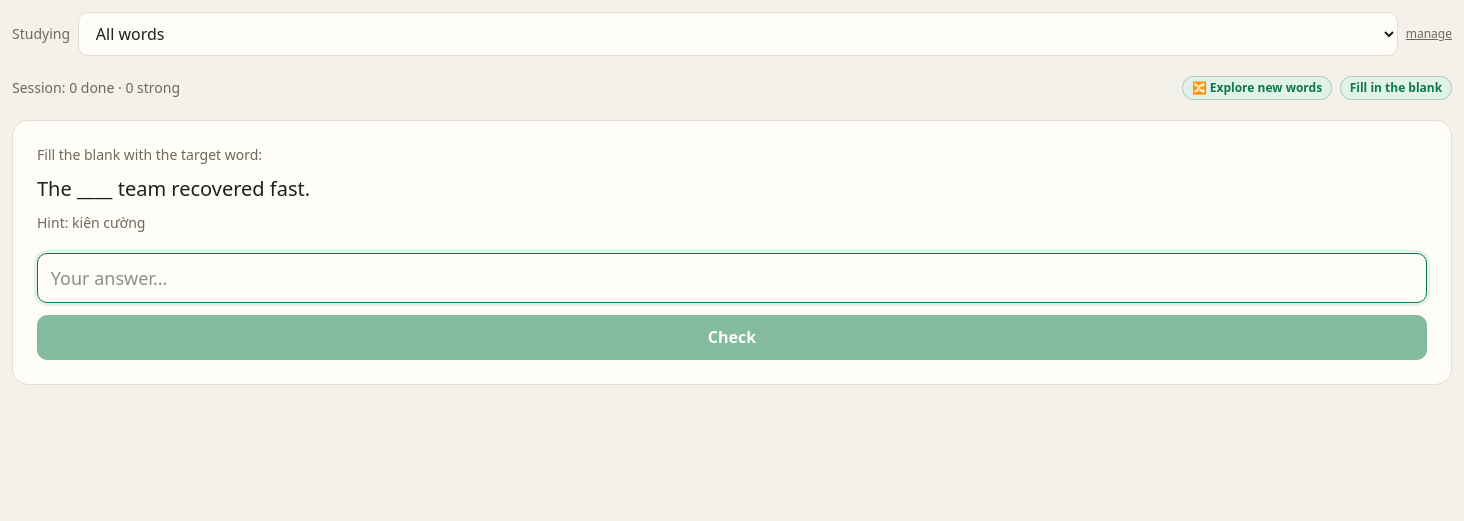
PracticePage — non-AI Check shows a verdict and does not auto-advance › cloze (fill in the blank)
The image size is (1464, 521).
Check: the text "Fill the blank with the target word:" is shown, box [37,145,262,164]
Type "wrongword" into the field with placeholder "Your answer…". click: (732, 278)
box: [37,253,1427,303]
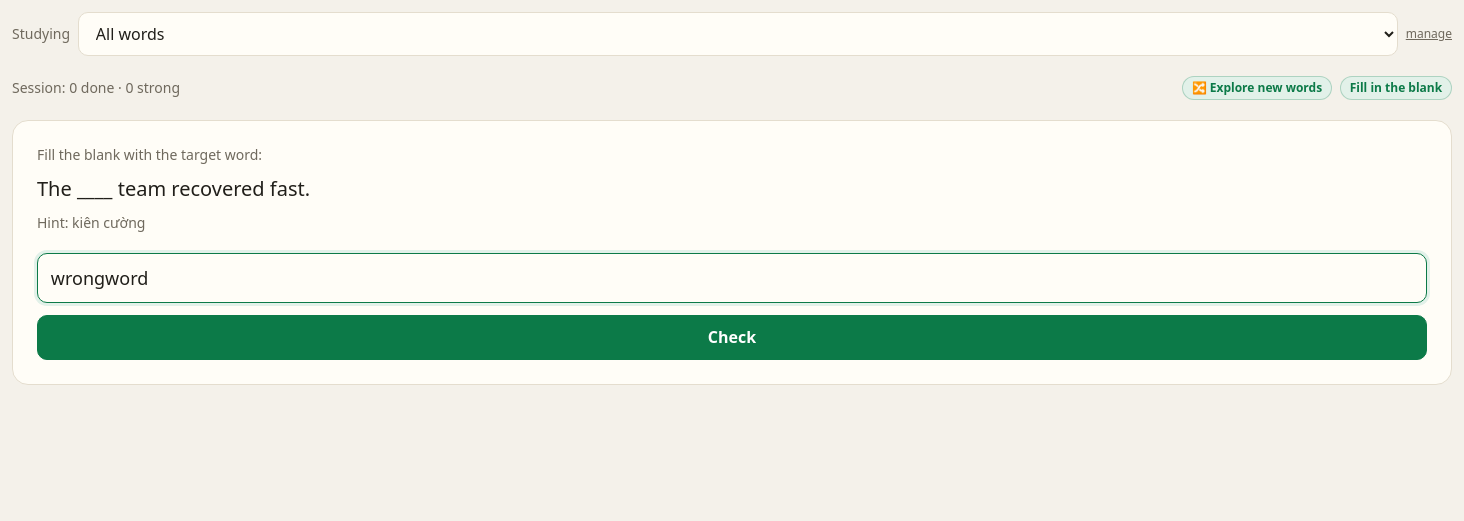
Click the button "Check". click: (732, 337)
box: [37,315,1427,360]
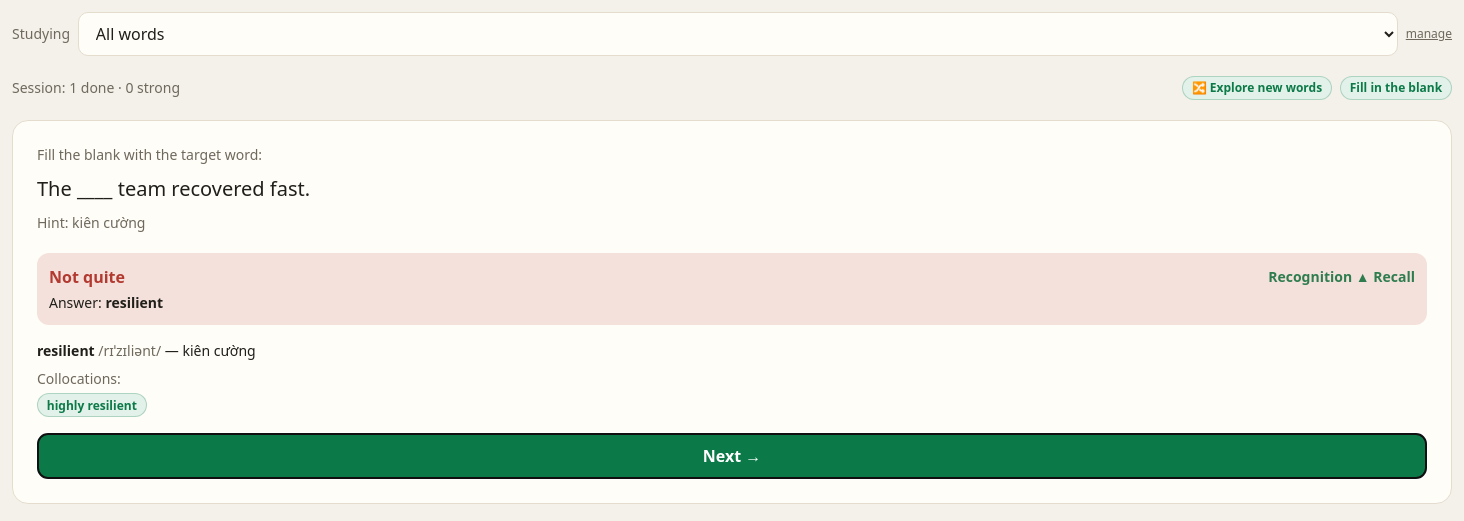
Check: the text "Not quite" is shown, box [49,265,125,289]
Check: the button "Next →" is shown, box [37,433,1427,478]
